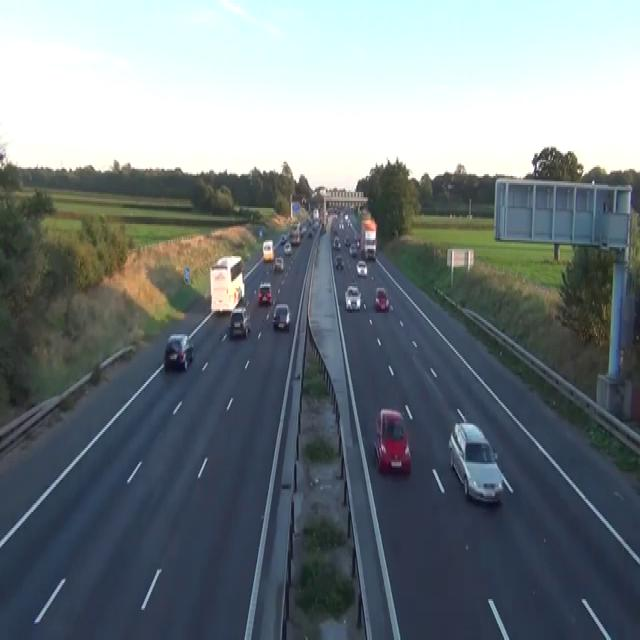Car: (448, 413, 504, 503), (373, 407, 411, 475), (164, 332, 194, 372), (229, 308, 250, 338), (272, 302, 290, 329), (344, 285, 361, 311), (374, 286, 389, 311), (257, 281, 272, 304), (356, 260, 367, 276), (273, 256, 284, 272), (365, 246, 376, 260), (335, 254, 344, 268), (332, 235, 341, 249), (283, 240, 291, 254), (349, 242, 357, 256), (297, 222, 303, 236), (300, 224, 307, 235), (279, 233, 286, 243), (320, 222, 326, 233), (313, 218, 319, 228), (338, 220, 344, 230), (344, 237, 350, 246), (355, 237, 360, 247), (306, 230, 312, 238), (258, 228, 263, 236)
Truck: (209, 254, 245, 313), (360, 218, 377, 260), (262, 240, 274, 261)
